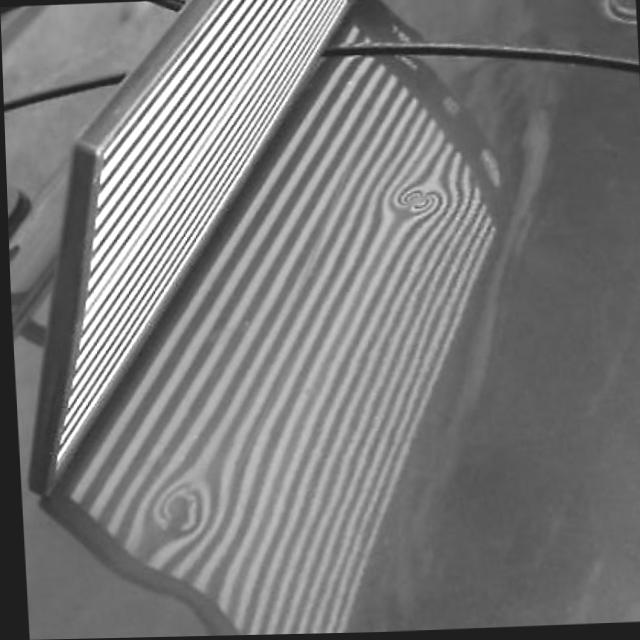PDR-Dent: (105, 446, 240, 581), (365, 150, 480, 242)
